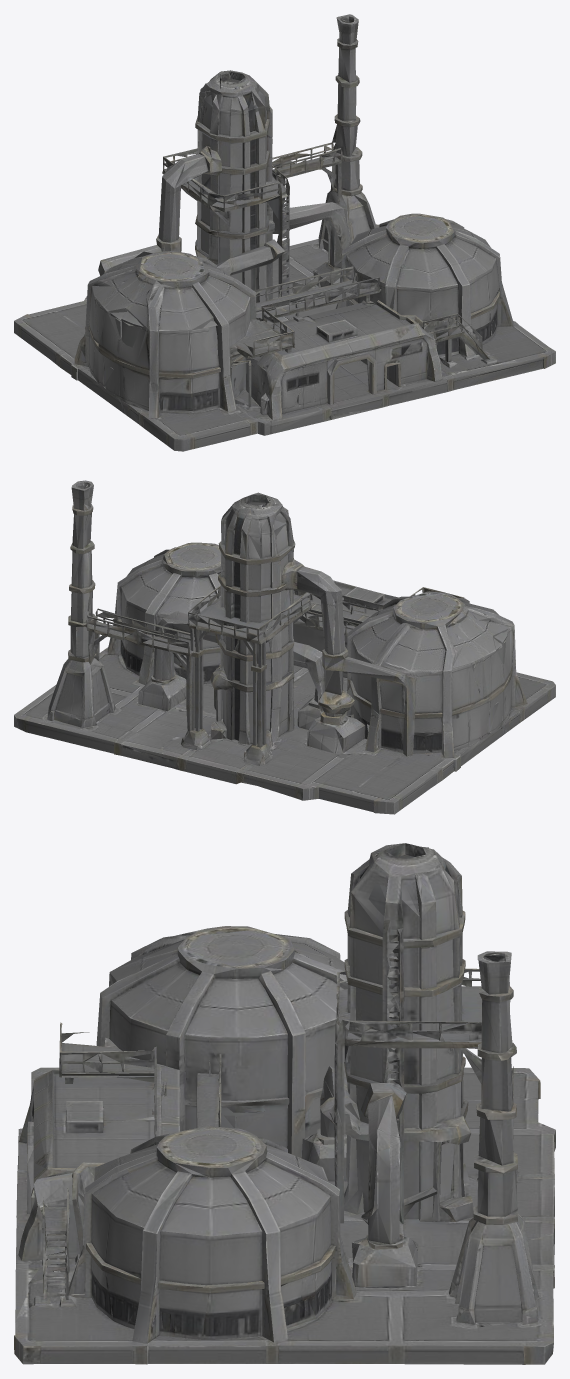
Rendered from imperial_fuel_refinery_lod1.glb.
3 renders of one model, top to bottom at view 1: azimuth 30°, elevation 25°; view 2: azimuth 150°, elevation 25°; view 3: azimuth 270°, elevation 25°, orthographic. The views are drawn at different scales.
Parts seen in each view (by area): view 1: mesh_node; view 2: mesh_node; view 3: mesh_node.
Part boxes in pixels (<box>): mesh_node: <box>14,14,555,451</box>; mesh_node: <box>14,480,555,814</box>; mesh_node: <box>14,843,555,1364</box>.
Bounding box in the file's own units: 31.96 × 19.48 × 25.89.
1 material, 1 textured.
